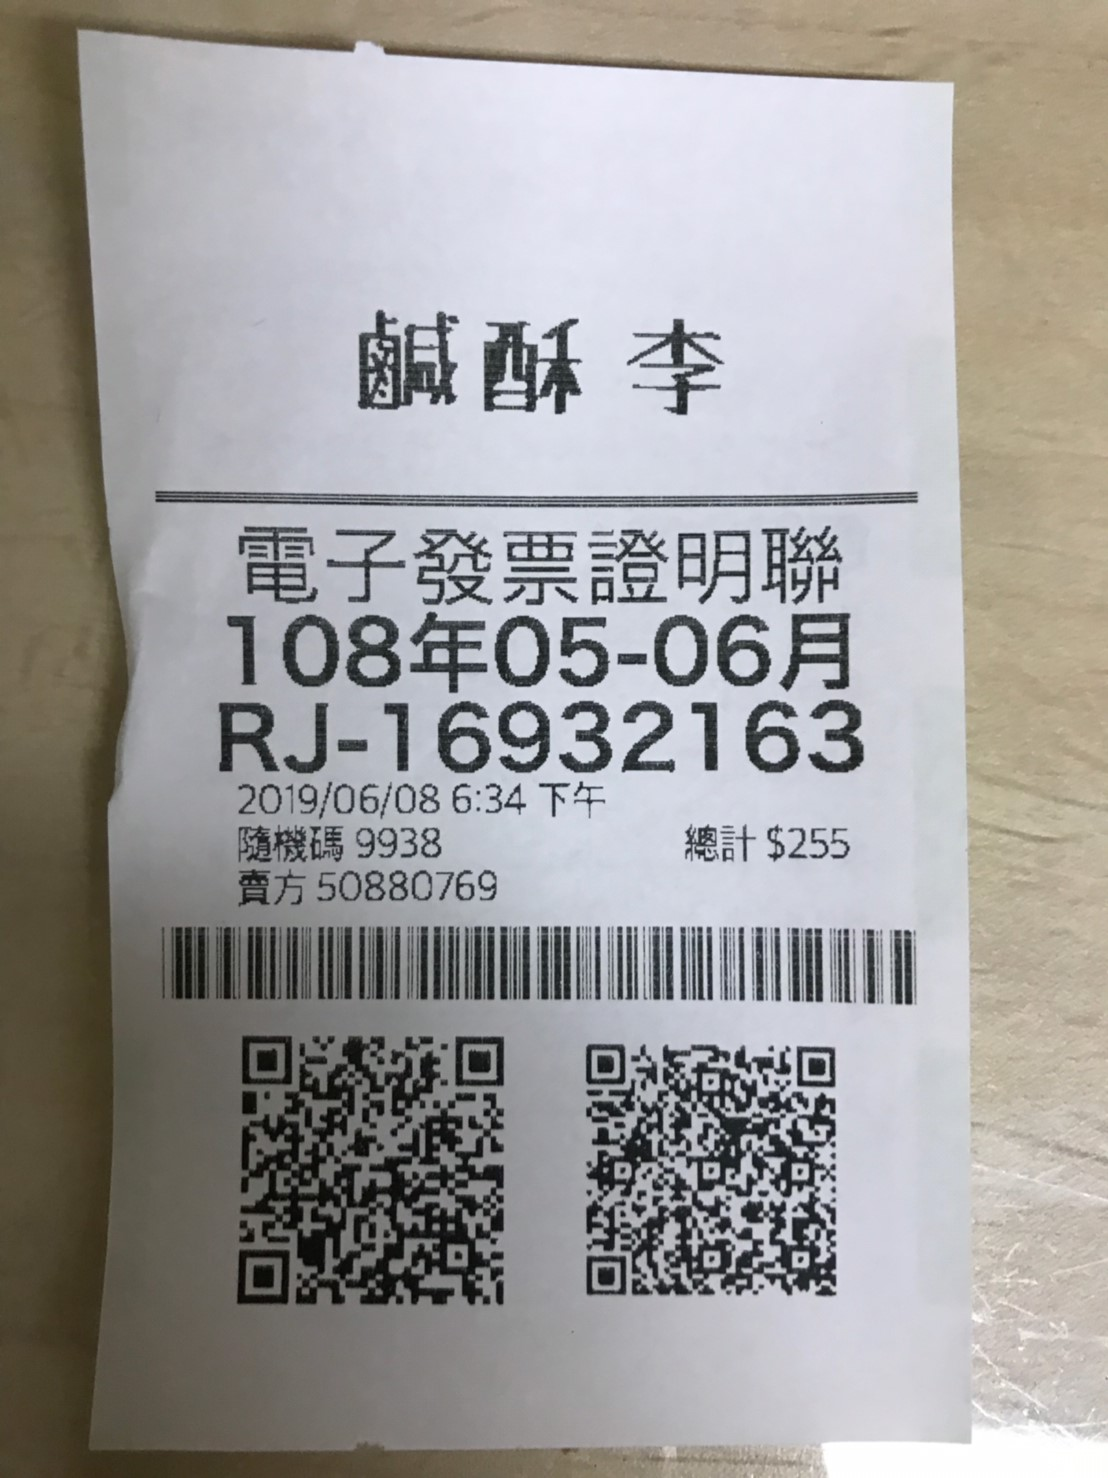Date_New: (223, 607, 852, 696)
Number_New: (382, 696, 864, 777)
